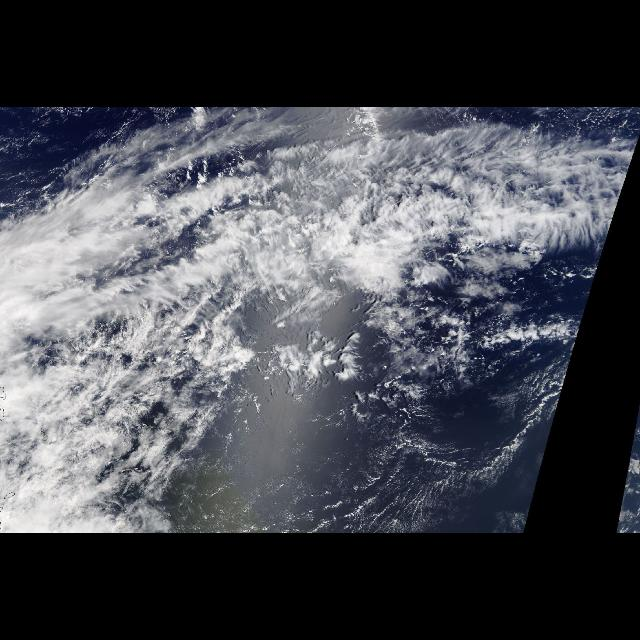Gravel: (316, 348, 576, 532)
Sugar: (250, 417, 522, 529)
